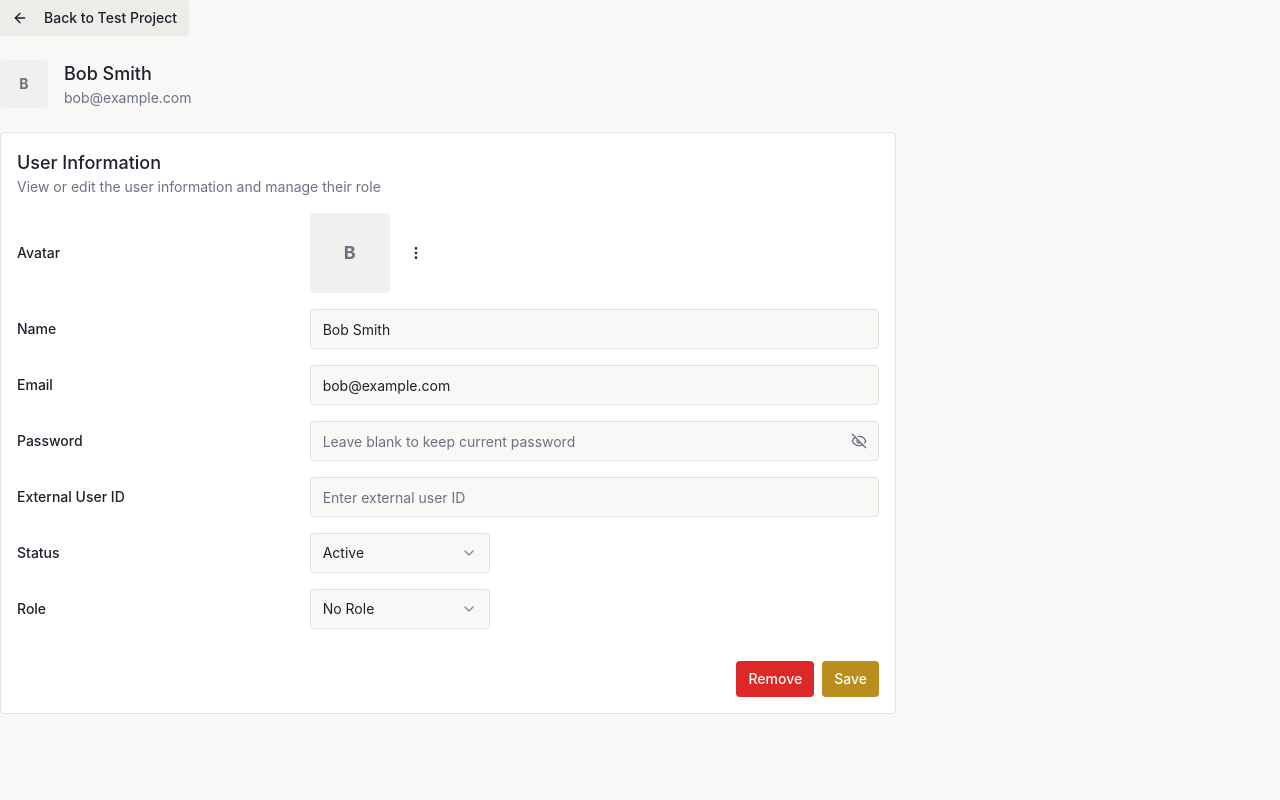
UserDetails Page › opens confirm dialog when Remove is clicked
Expected: the field showing "Bob Smith" is shown, [310,309,879,349]
Click the button "Remove". click: (775, 679)
box: [736,661,814,697]
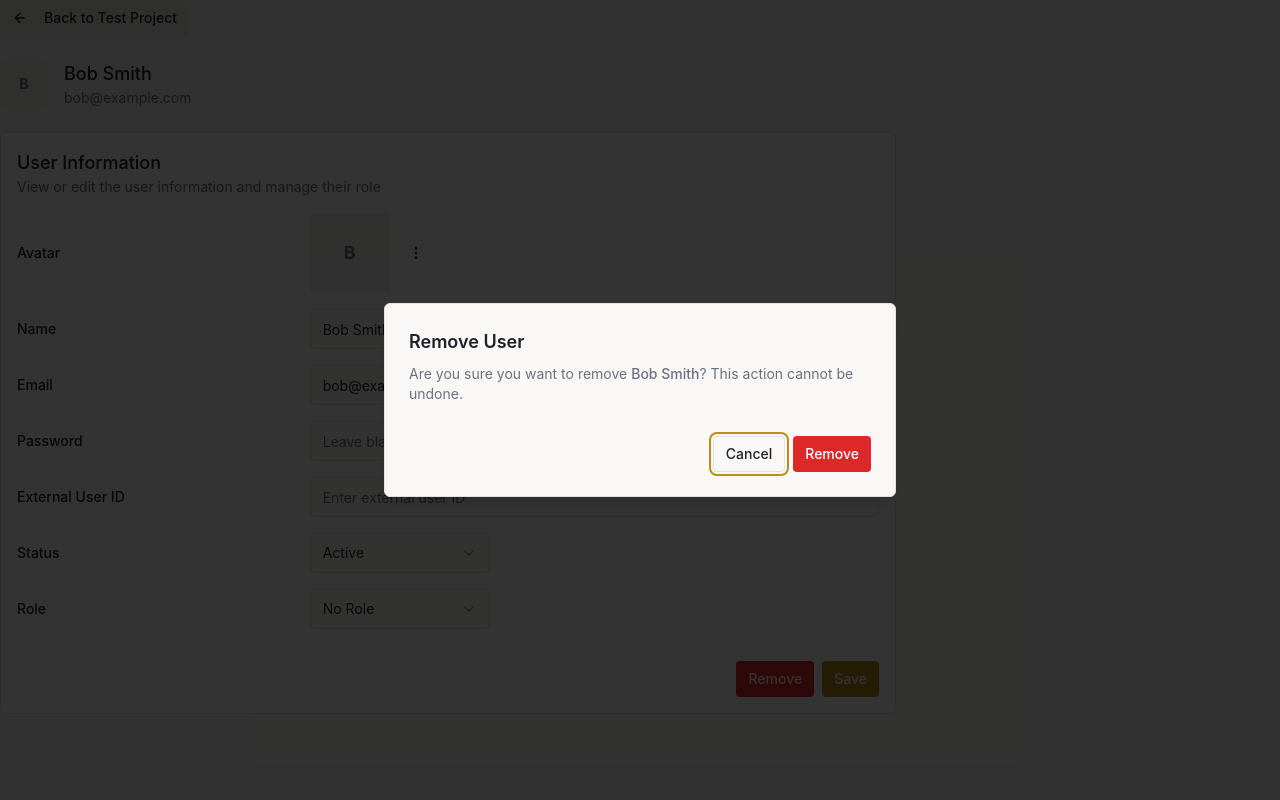
Now the heading "Remove User" is shown, box [409,331,524,352]
Now the text "Are you sure you want to remove" is shown, box [409,365,631,382]
